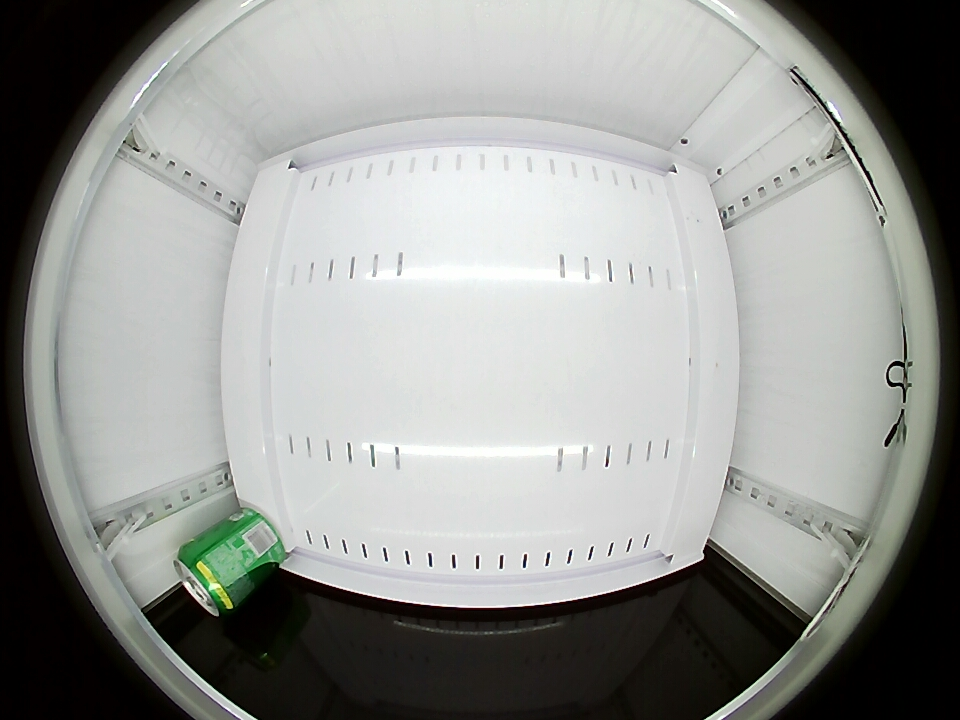xuebi2: (174, 540, 240, 617)
